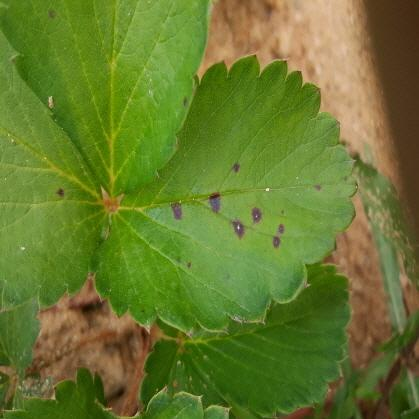Leaf Spot: (88, 53, 359, 336), (0, 0, 212, 197), (0, 32, 109, 315)
